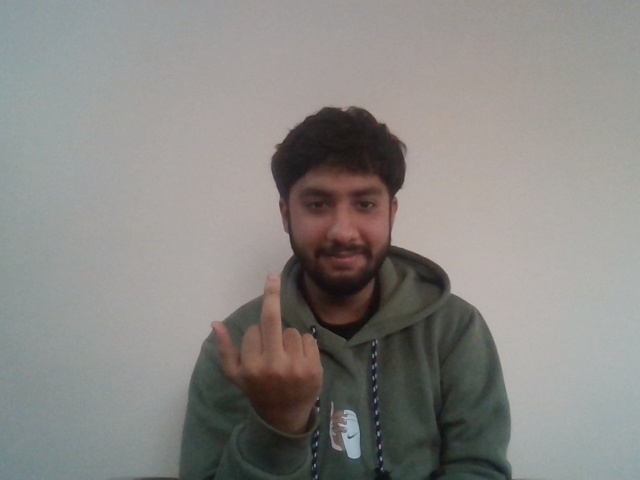Hello: (208, 270, 334, 412)
